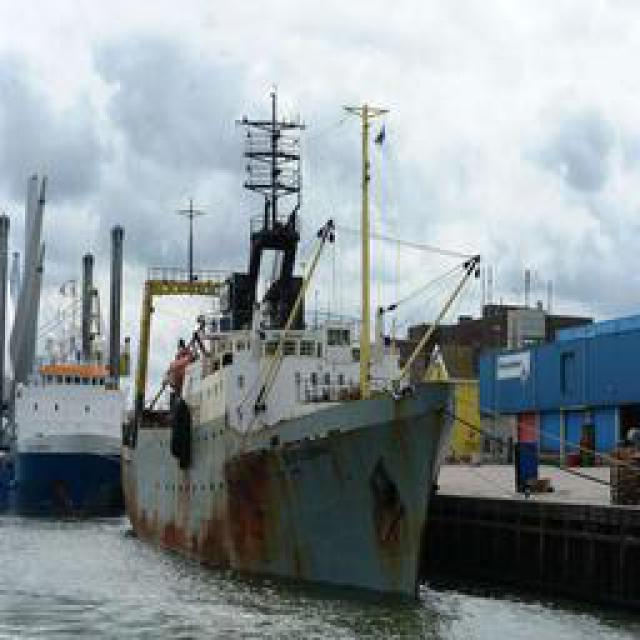Ship: (128, 82, 456, 592)
